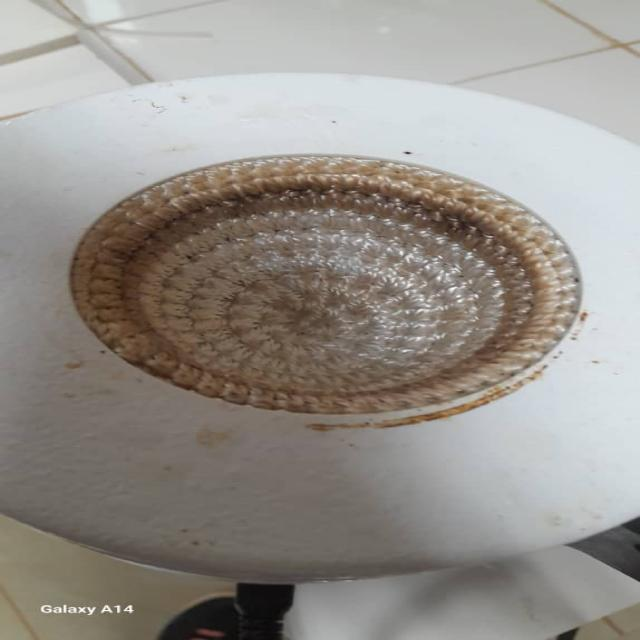Heating Source: (49, 124, 617, 461)
